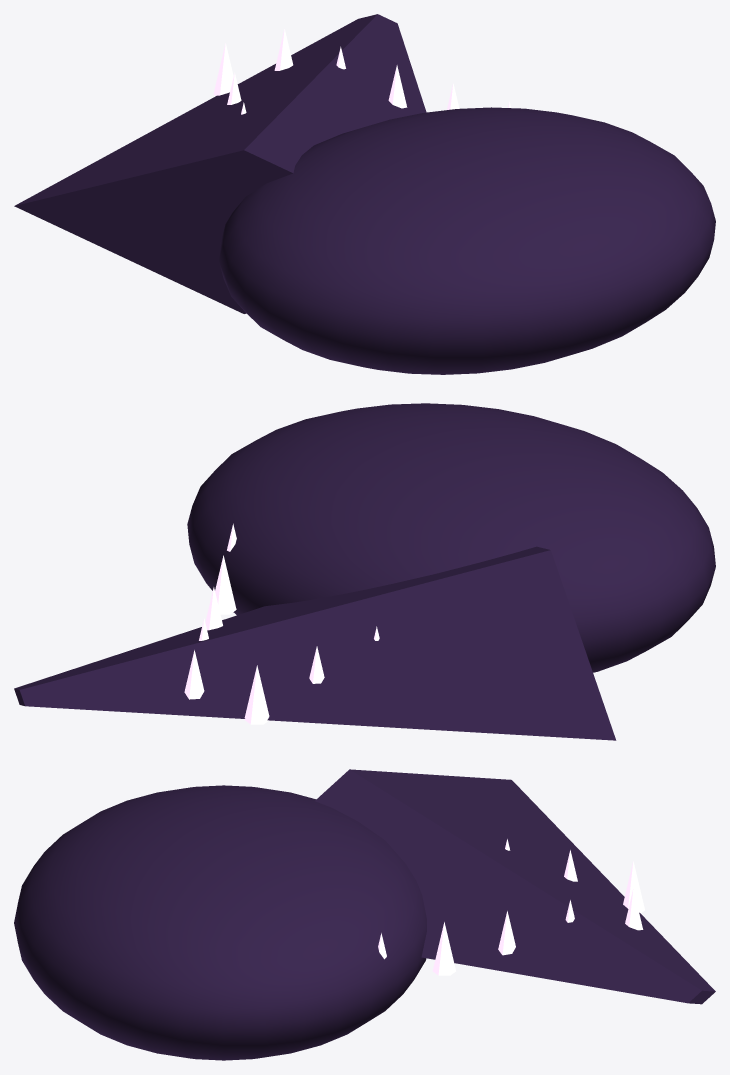
Rendered from SM_Keeper_Apep_Head.fbx.
3 renders of one model, top to bottom at view 1: azimuth 30°, elevation 25°; view 2: azimuth 150°, elevation 25°; view 3: azimuth 270°, elevation 25°, orthographic. The views are drawn at different scales.
Parts seen in each view (by area): view 1: SM_Keeper_Apep_Head; view 2: SM_Keeper_Apep_Head; view 3: SM_Keeper_Apep_Head.
Part boxes in pixels (x1,y1,x2,y2): SM_Keeper_Apep_Head: (14,14,715,374); SM_Keeper_Apep_Head: (14,403,715,740); SM_Keeper_Apep_Head: (14,769,715,1060).
Size of the model in its own units: 4.48 by 1.5 by 5.35.
